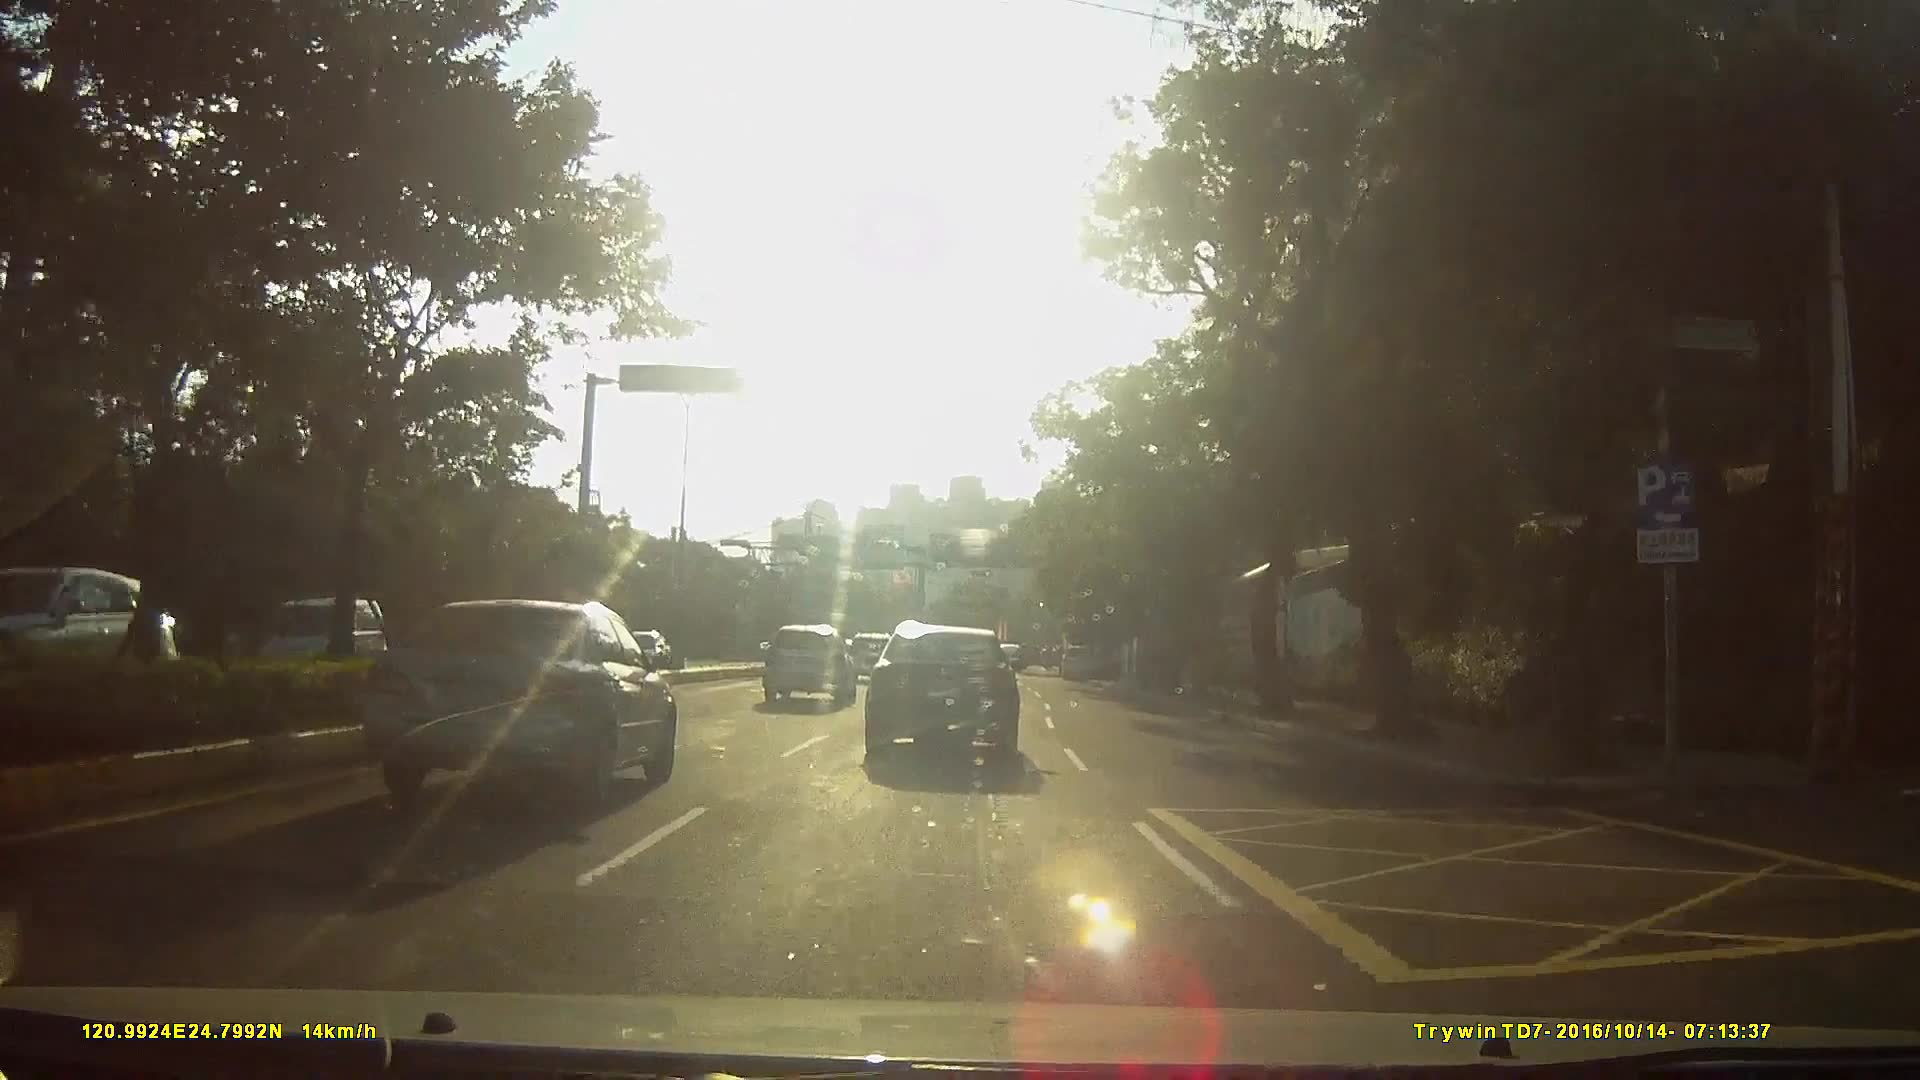vehicle: (363, 596, 678, 810), (865, 620, 1044, 767), (1, 563, 187, 705), (251, 589, 394, 688), (757, 626, 857, 713), (843, 632, 898, 686), (1060, 647, 1102, 686)
